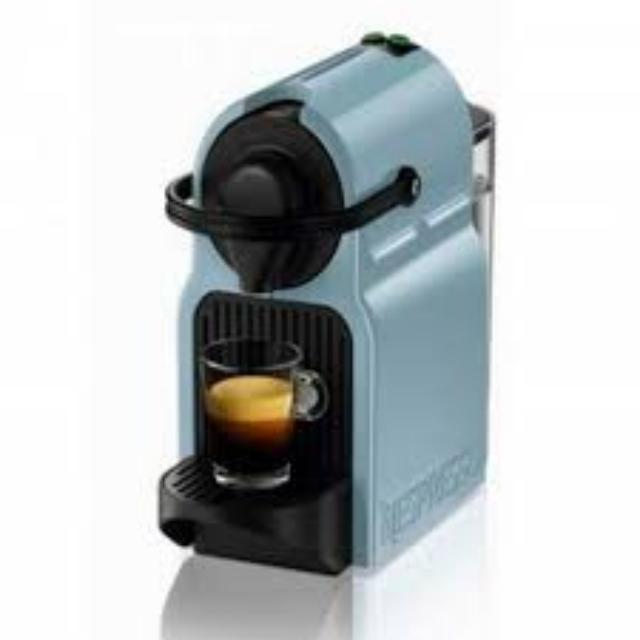Coffee-Machine: (146, 18, 506, 586)
